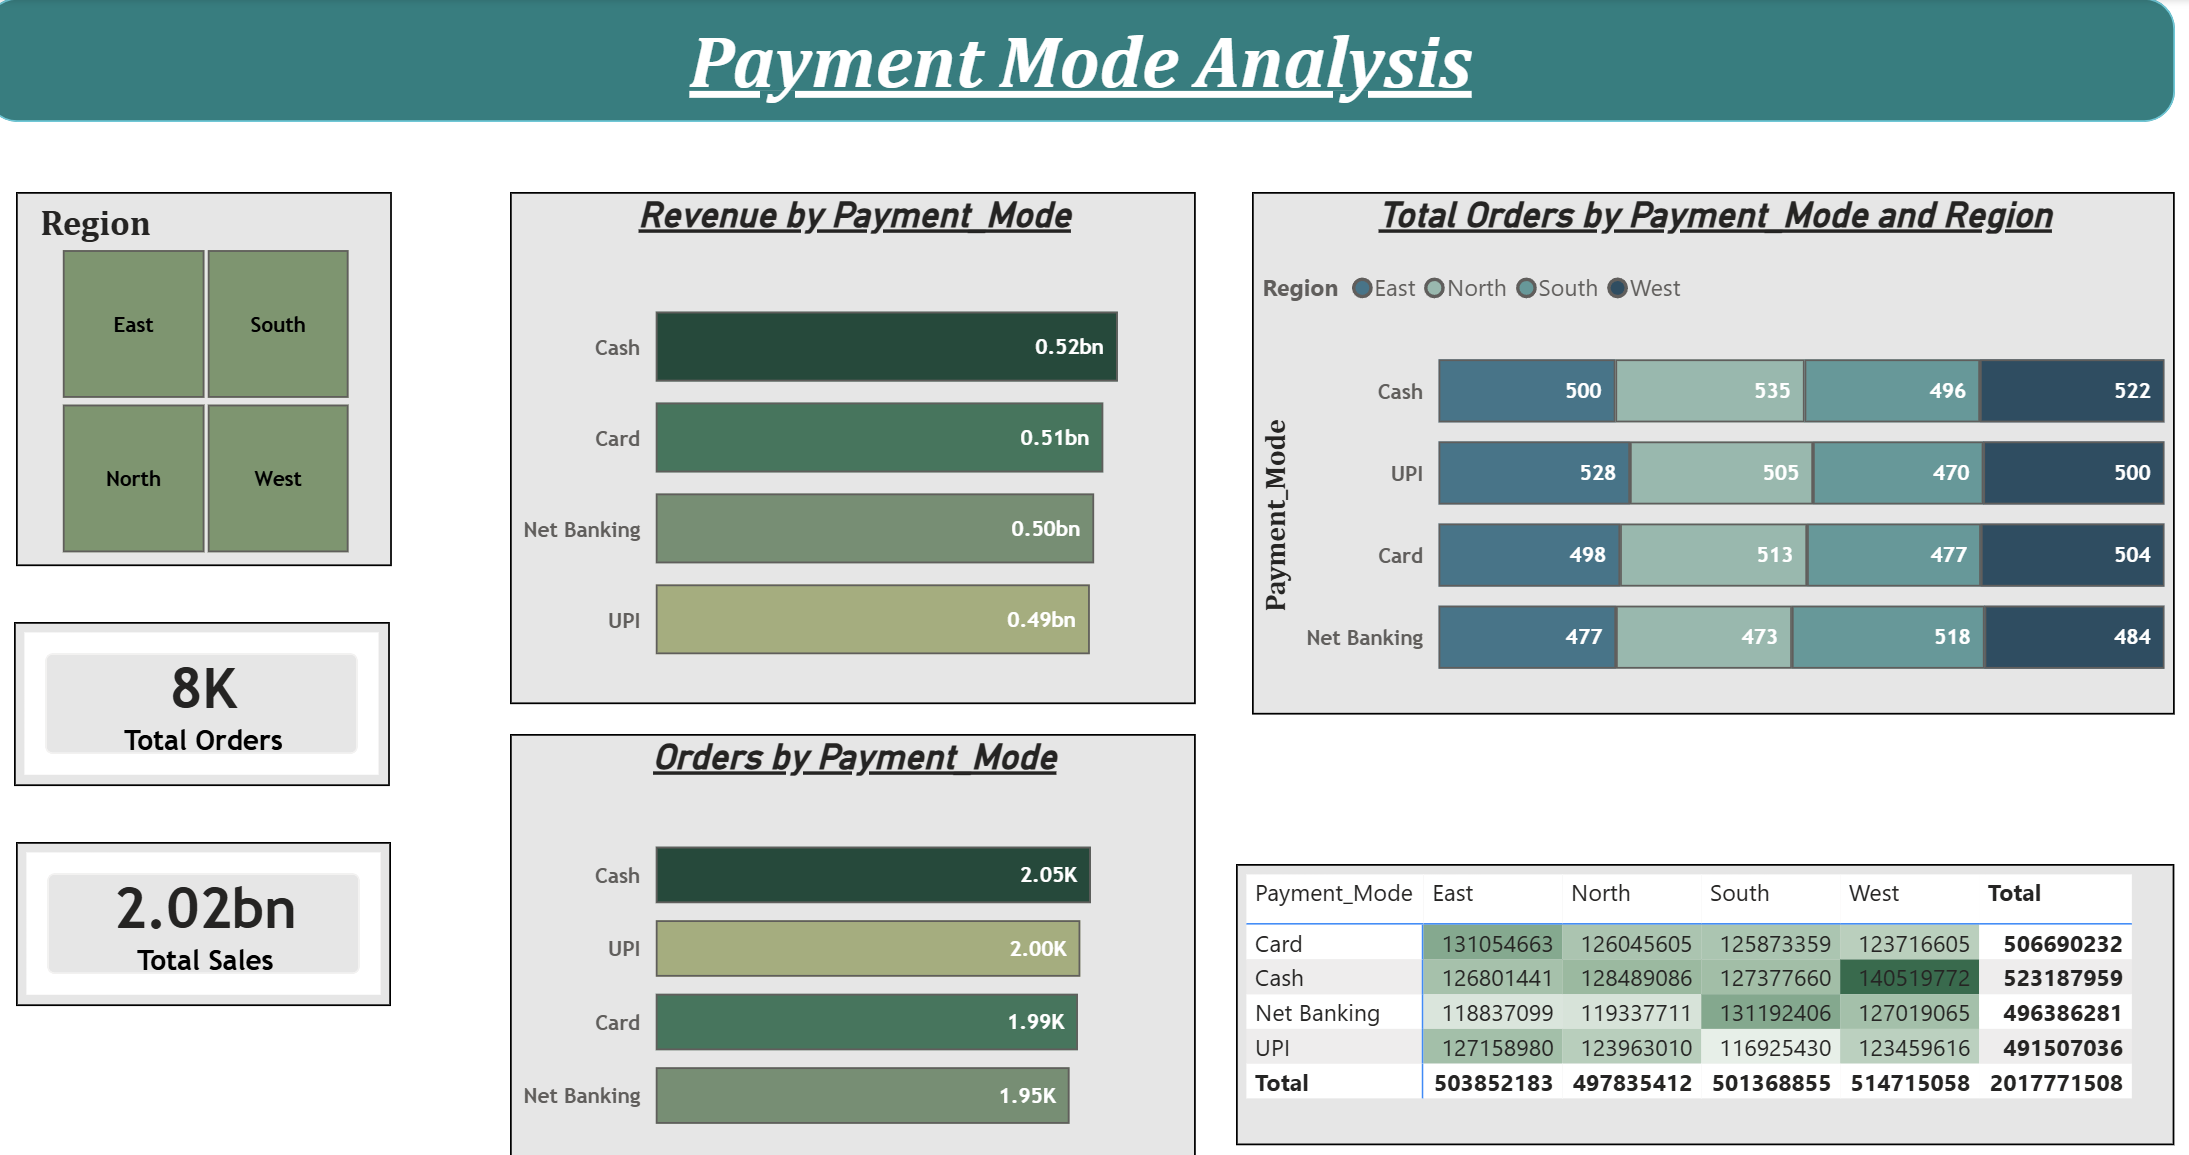

What the dashboard file says about the page in this screenshot:
{"tool":"powerbi","page":{"name":"L2 | T3 (2)","canvas":[1280,720],"ordinal":4},"visuals":[{"type":"shape","box":[10.2,0,1260.9,71.4],"z":0},{"type":"cardVisual","fields":{"Data":["Sales_data.Total Sales"]},"box":[28,485.7,216,94.3],"z":1000},{"type":"cardVisual","fields":{"Data":["Measures Table 1.Total Orders"]},"box":[26.8,359.5,216.7,94.3],"z":2000},{"type":"slicer","fields":{"Values":["Sales_data.Region"]},"box":[28,112.2,216.7,215.5],"z":3000},{"type":"hundredPercentStackedBarChart","fields":{"Category":["Sales_data.Payment_Mode"],"Series":["Sales_data.Region"],"Y":["Measures Table 1.Total Orders"]},"box":[739.4,112.2,531.6,300.9],"z":4000},{"type":"barChart","title":"Orders by Payment_Mode","fields":{"Category":["Sales_data.Payment_Mode"],"Y":["Measures Table 1.Total Orders"]},"box":[312.2,423.9,395.1,248.8],"z":5000},{"type":"barChart","title":"Revenue by Payment_Mode","fields":{"Category":["Sales_data.Payment_Mode"],"Y":["Measures Table 1.Total Sales"]},"box":[312.2,111.7,395.1,294.9],"z":6000},{"type":"pivotTable","fields":{"Columns":["Sales_data.Region"],"Rows":["Sales_data.Payment_Mode"],"Values":["Measures Table 1.Total Sales"]},"box":[730.5,498.5,540.6,161.9],"z":7000}]}

Visuals, with their boxes on the page's 1280x720 design canvas (x1, y1, x2, y2). These are canvas units, not pixel positions in the 2189x1155 screenshot, which may show the page scaled, cropped or inside an application window:
shape: (left=10, top=0, right=1271, bottom=71)
cardVisual - Sales_data.Total Sales: (left=28, top=486, right=244, bottom=580)
cardVisual - Measures Table 1.Total Orders: (left=27, top=360, right=244, bottom=454)
slicer - Sales_data.Region: (left=28, top=112, right=245, bottom=328)
hundredPercentStackedBarChart - Sales_data.Payment_Mode x Sales_data.Region: (left=739, top=112, right=1271, bottom=413)
"Orders by Payment_Mode" barChart: (left=312, top=424, right=707, bottom=673)
"Revenue by Payment_Mode" barChart: (left=312, top=112, right=707, bottom=407)
pivotTable - Sales_data.Region x Sales_data.Payment_Mode: (left=730, top=498, right=1271, bottom=660)
